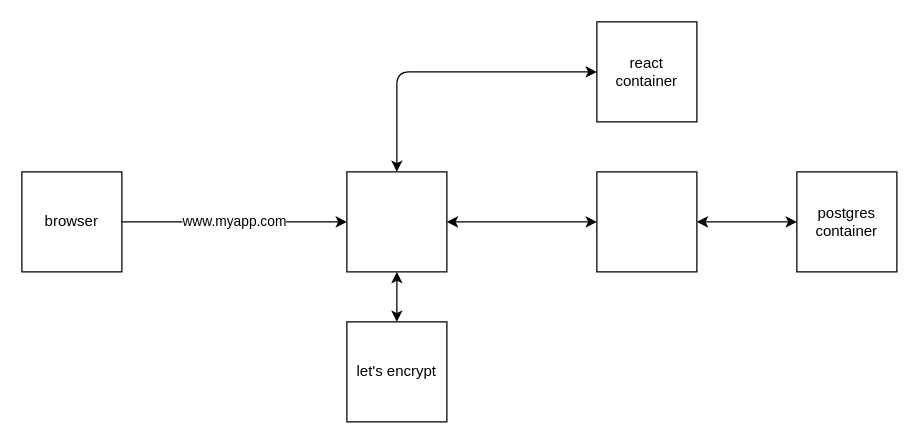
Image size: 919x444. Some labels were removed from this diagram. The shapes that lost their labels are listed below. From the top down, each one's centre as x and y in pixels, then its label:
At point 396,221: "nginx container".
At point 646,221: "golang container".
